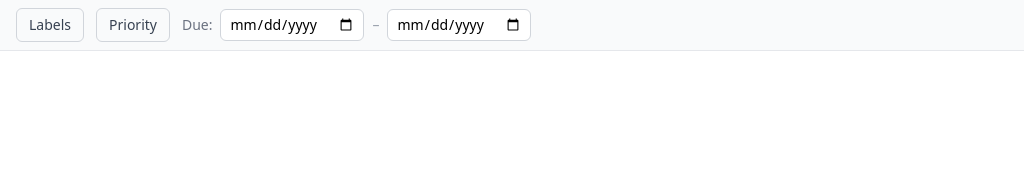
Test case: FilterBar › closes label dropdown when clicking outside
The width and height of the screenshot is (1024, 178).
Click the button with aria-label "Filter by label" at (50, 25), box [16,8,84,42]
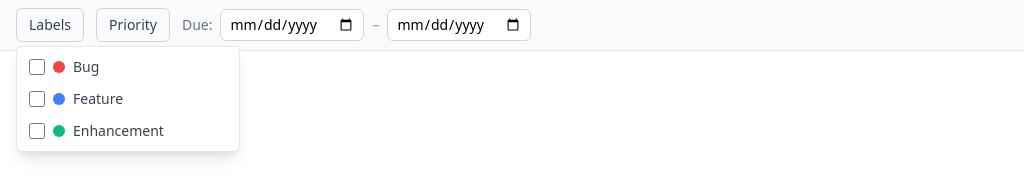
Result: the text "Bug" is shown at [73,57,99,77]
Press the mouse on the element showing "Labels Bug Feature Enhancement Priority Due: –" at (512, 26), box [0,0,1023,51]
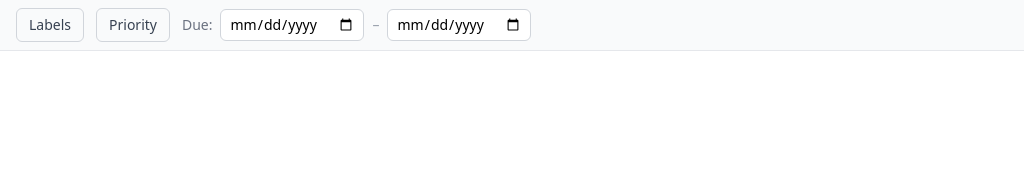
Result: the text "Bug" is gone
